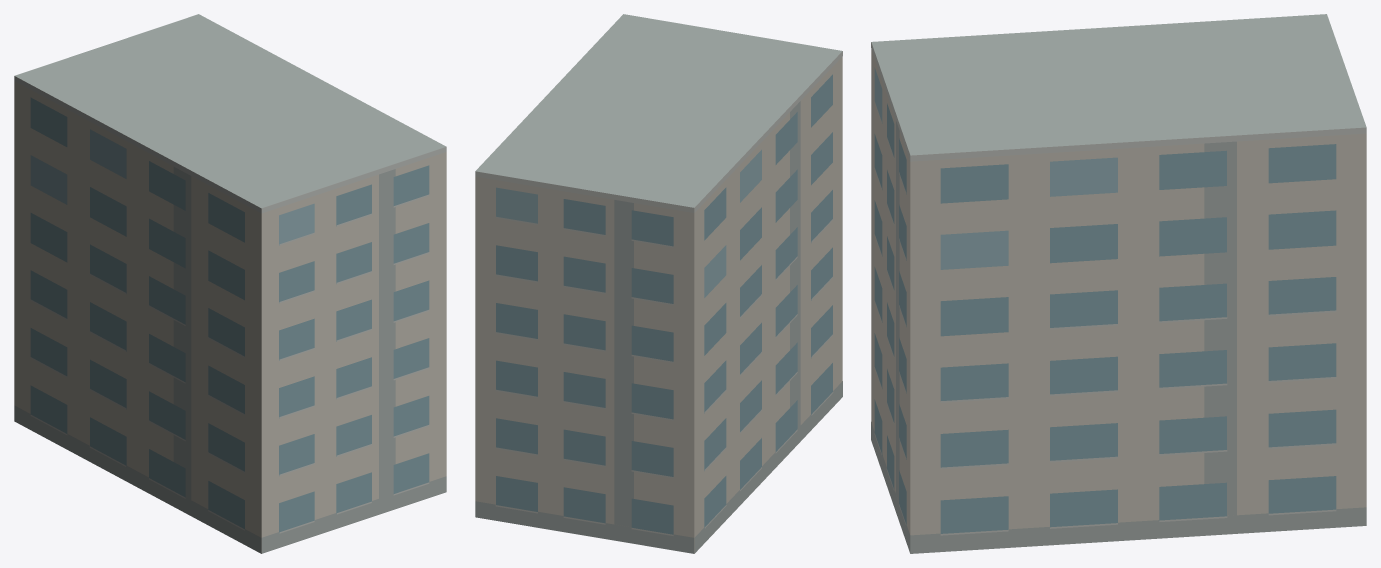
File: survey-upis-32923076.glb
3 views of the same model, side by side, from view 1: azimuth 30°, elevation 25°; view 2: azimuth 150°, elevation 25°; view 3: azimuth 270°, elevation 25° (orthographic). The views are drawn at different scales.
Parts seen in each view (by area): view 1: survey-upis-32923076.tmp; view 2: survey-upis-32923076.tmp; view 3: survey-upis-32923076.tmp.
Part boxes in pixels (x1=…): survey-upis-32923076.tmp: x1=14, y1=14, x2=446, y2=553; survey-upis-32923076.tmp: x1=475, y1=14, x2=842, y2=553; survey-upis-32923076.tmp: x1=871, y1=14, x2=1366, y2=553.
Bounding box in the file's own units: 12.2 × 16 × 18.05.
